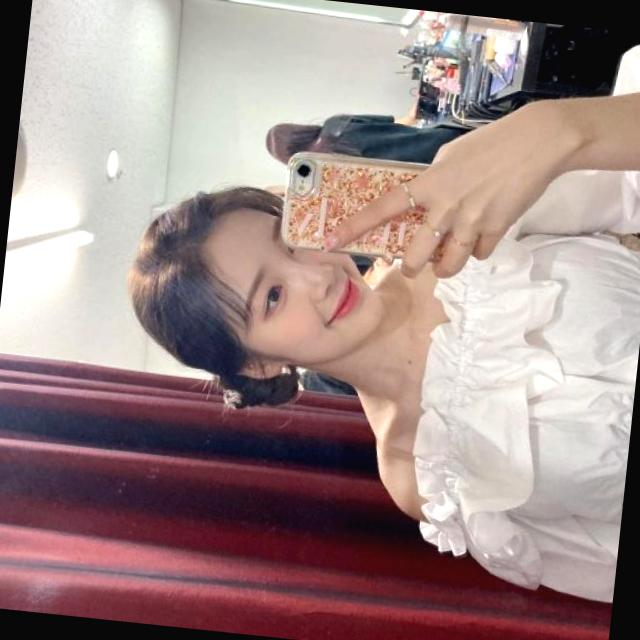lens_back: (288, 160, 313, 198)
phone: (277, 143, 463, 264)
